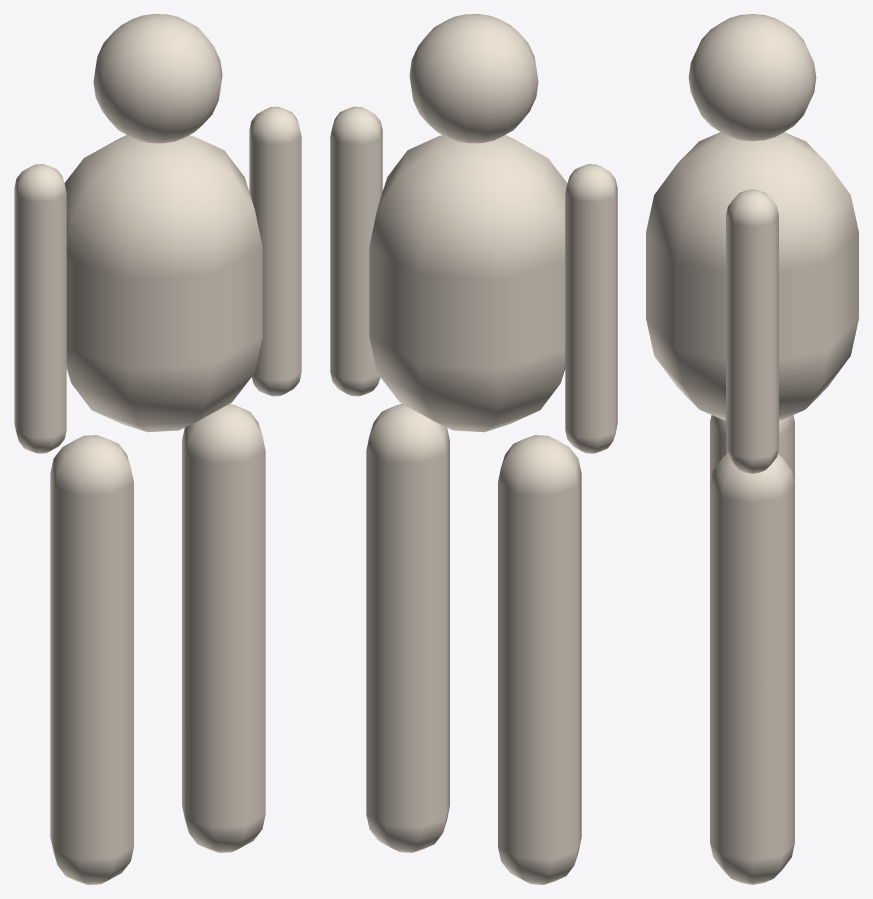
The model's file is women.glb.
3 renders of one model, left to right at view 1: azimuth 30°, elevation 25°; view 2: azimuth 150°, elevation 25°; view 3: azimuth 270°, elevation 25°, orthographic.
Parts seen in each view (by area): view 1: Torso, LeftLeg, RightLeg, LeftArm, Head, RightArm; view 2: Torso, LeftLeg, RightLeg, LeftArm, Head, RightArm; view 3: Torso, RightLeg, RightArm, Head, LeftLeg.
Part boxes in pixels (left/top/right/bottom): Torso: left=64, top=135, right=262, bottom=432; LeftLeg: left=50, top=435, right=133, bottom=884; RightLeg: left=182, top=403, right=265, bottom=852; LeftArm: left=14, top=164, right=66, bottom=453; Head: left=93, top=14, right=222, bottom=143; RightArm: left=249, top=106, right=301, bottom=396; Torso: left=369, top=135, right=567, bottom=432; LeftLeg: left=498, top=435, right=581, bottom=884; RightLeg: left=366, top=403, right=449, bottom=852; LeftArm: left=565, top=164, right=617, bottom=453; Head: left=409, top=14, right=538, bottom=143; RightArm: left=330, top=106, right=382, bottom=396; Torso: left=646, top=132, right=858, bottom=420; RightLeg: left=710, top=453, right=794, bottom=884; RightArm: left=726, top=189, right=778, bottom=473; Head: left=688, top=14, right=816, bottom=141; LeftLeg: left=710, top=415, right=794, bottom=483.
Bounding box in the file's own units: 0.6 × 1.72 × 0.4.
